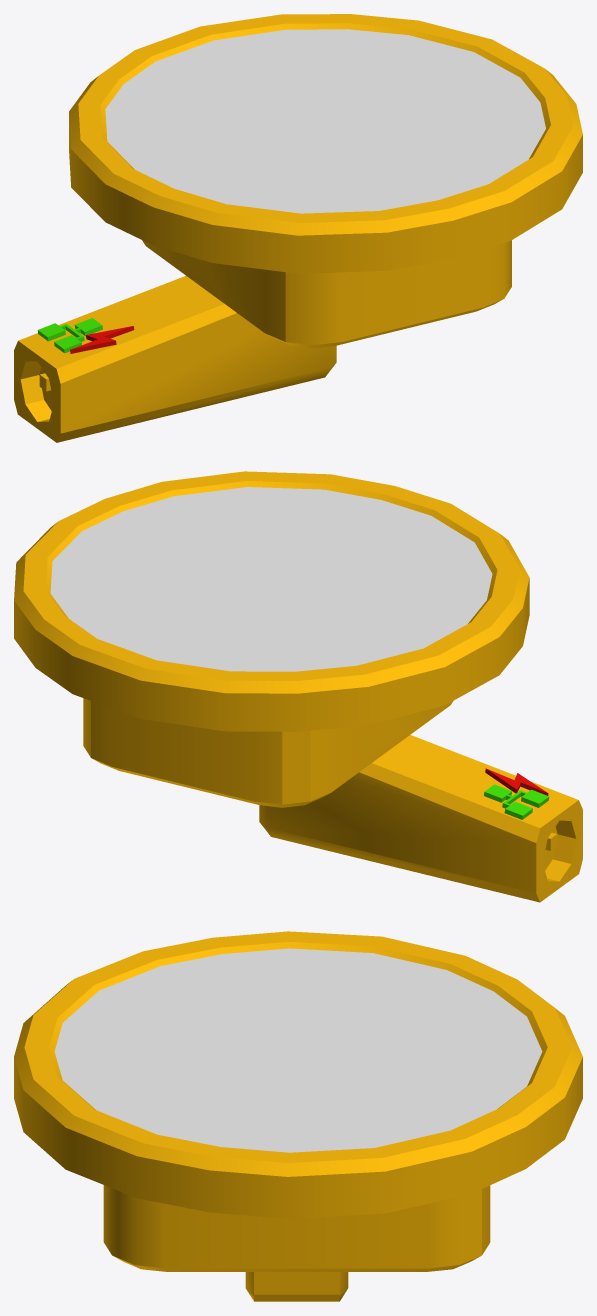
File: RoundLight.fbx
The picture shows the model from 3 angles, top to bottom: view 1: azimuth 30°, elevation 25°; view 2: azimuth 150°, elevation 25°; view 3: azimuth 270°, elevation 25°; orthographic projection. The views are drawn at different scales.
Parts seen in each view (by area): view 1: StructureLightRound; view 2: StructureLightRound; view 3: StructureLightRound.
Part boxes in pixels (bbox=[...]): StructureLightRound: bbox=[14, 14, 582, 442]; StructureLightRound: bbox=[14, 471, 582, 902]; StructureLightRound: bbox=[14, 931, 582, 1301].
Size of the model in its own units: 44.44 by 38.85 by 19.95.
